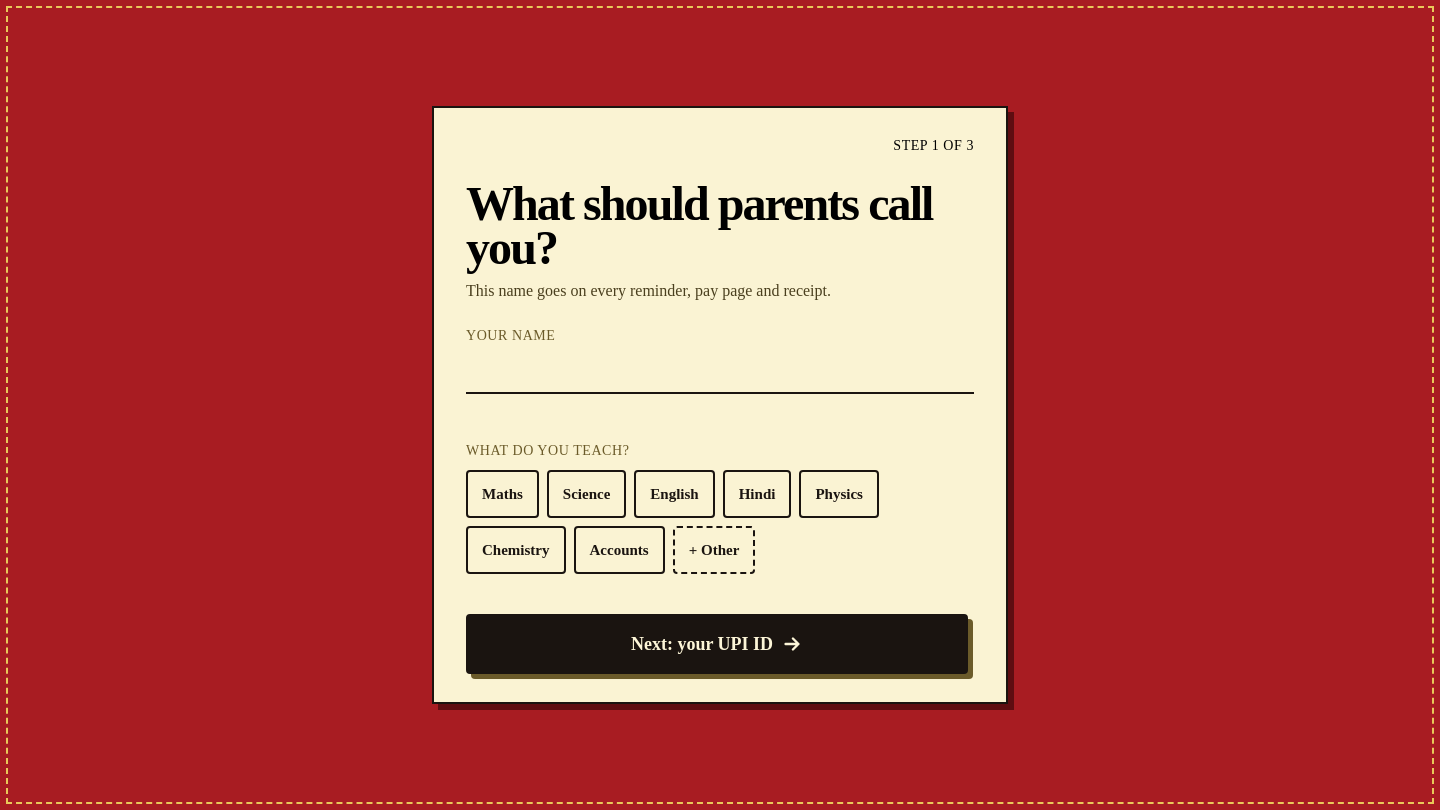
Test: the subjects (criteria 23 and 24) › opens + Other, adds a typed subject as a new pressed chip and closes the field
Click the button "+ Other".
click(714, 550)  # box [673,526,755,574]
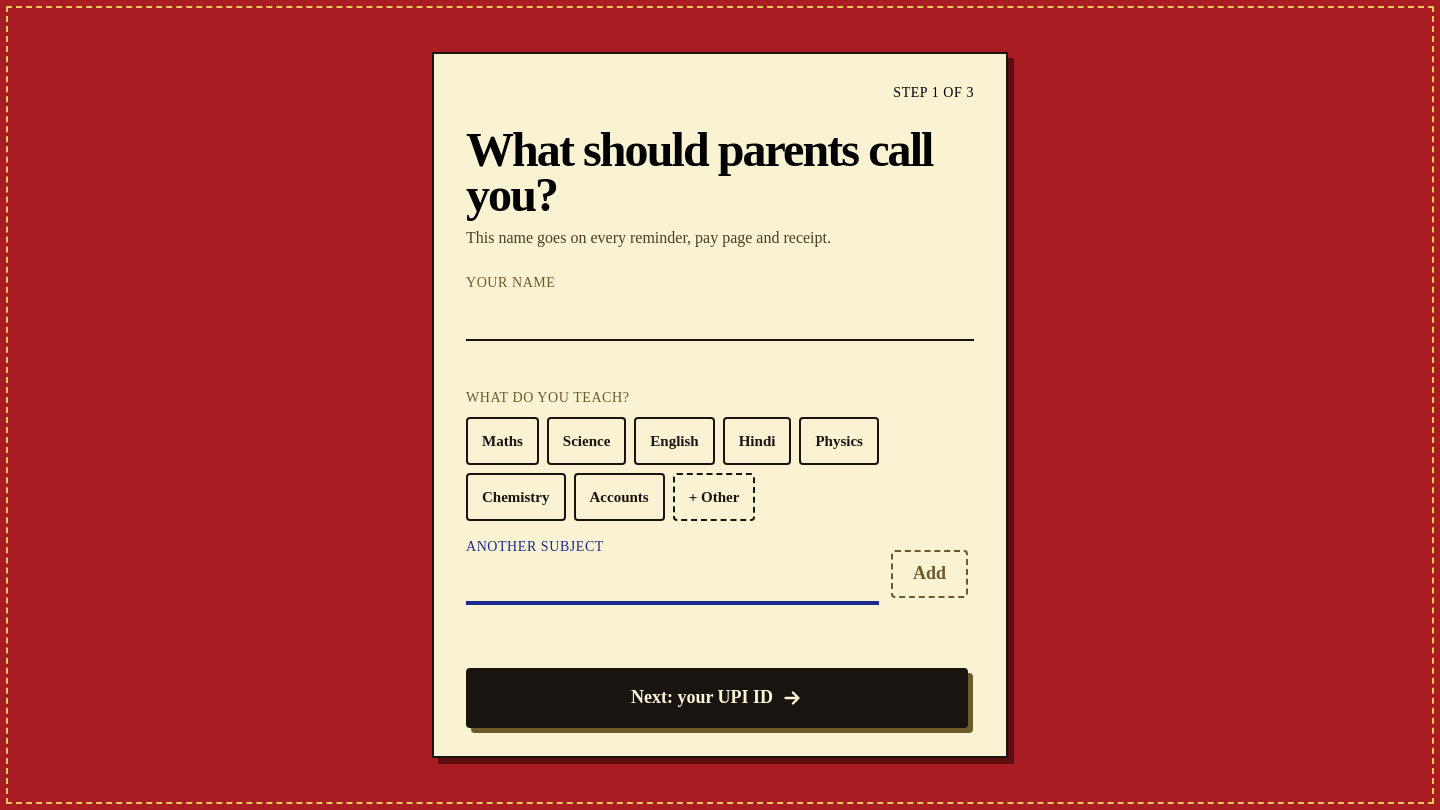
Type "Sanskrit" into the text box labelled "Another subject".
click(672, 579); type("Sanskrit")  # box [466,557,879,601]
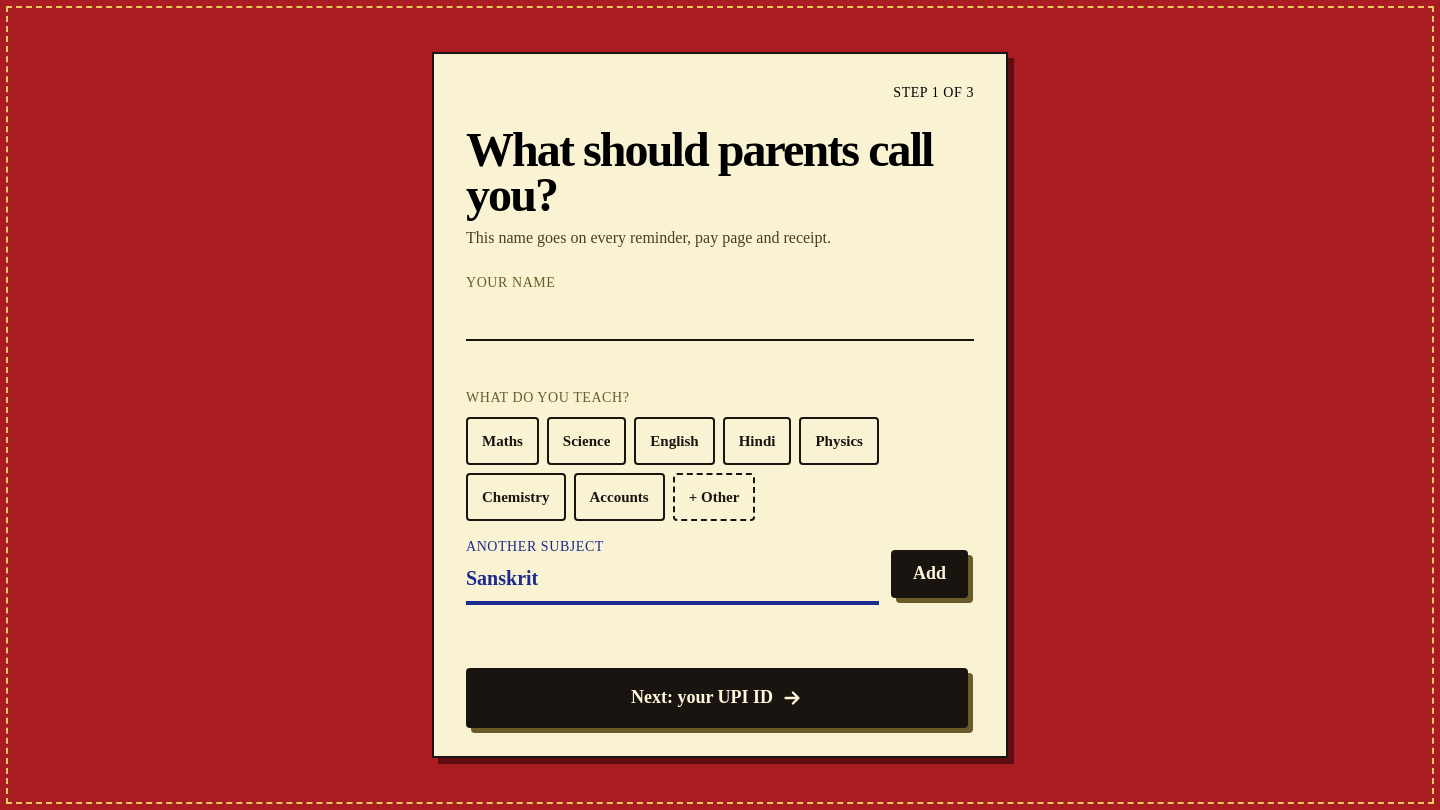
Click the button "Add".
click(930, 574)  # box [891,550,968,598]
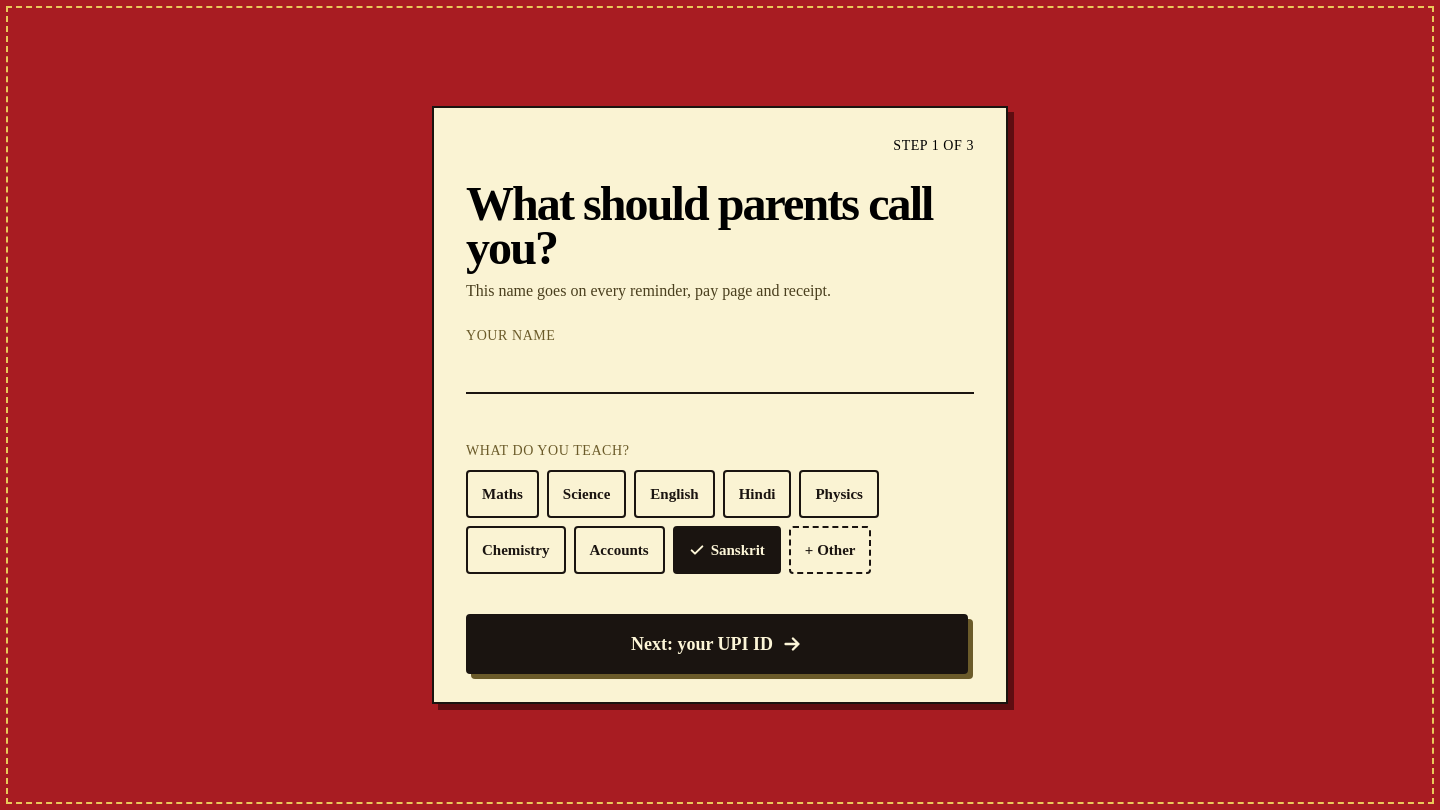
Result: the label "Another subject" is gone
